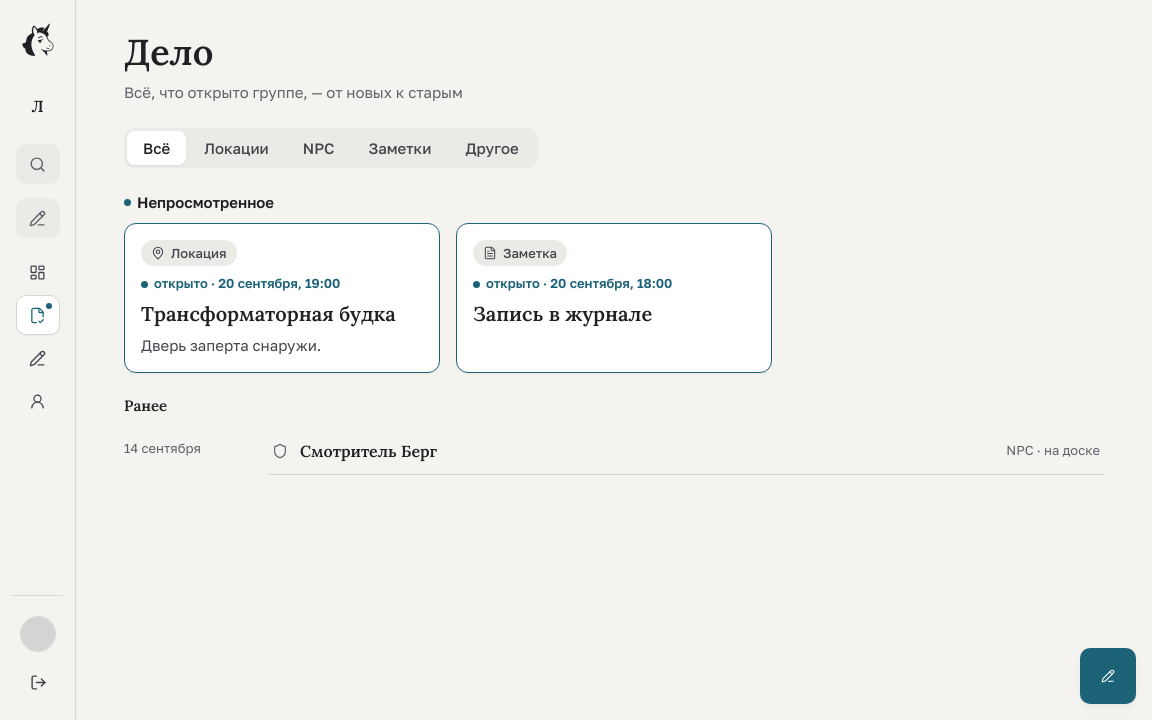
CasePage › shows unseen materials first and the rest by day
Expected: the text "Дверь заперта снаружи." is shown, [141, 336, 321, 354]
What coordinates should you click on to do the following:
click the radio button labelled "NPC"
I would click on:
 (319, 148)
Its box is [303, 139, 334, 157].
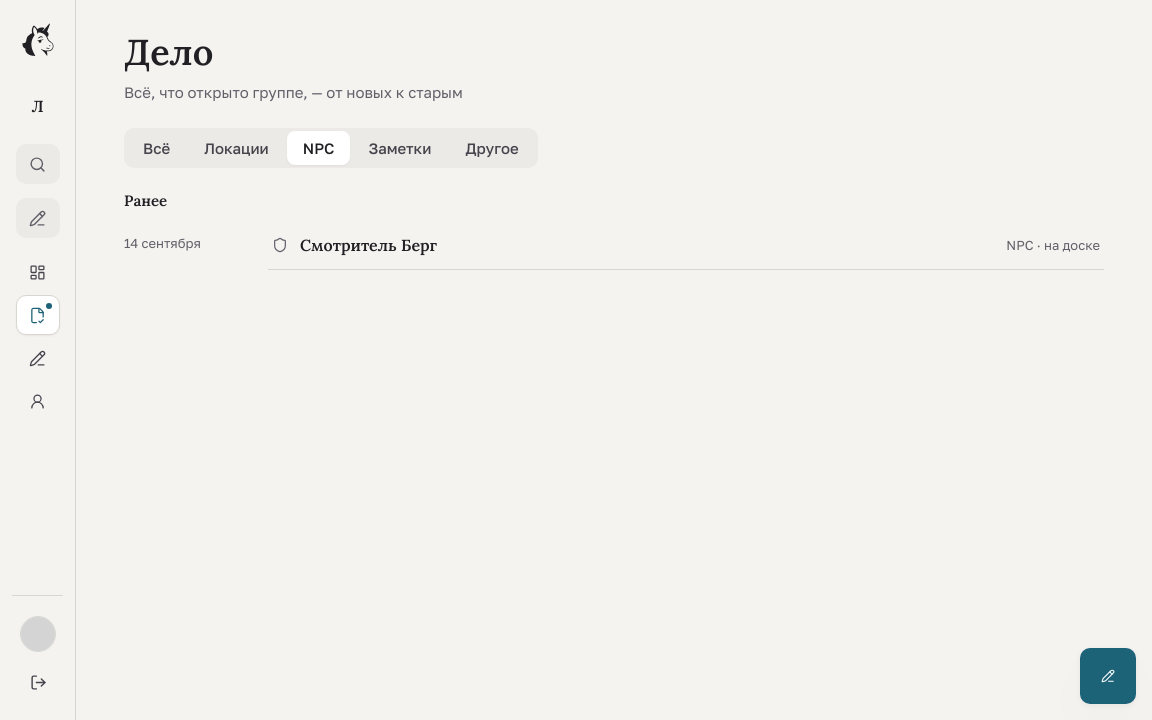
Expected: the element "14 сентября" shows "Смотритель Берг", [268, 222, 1104, 270]
Expected: the text "Непросмотренное" is gone
Expected: the link "Трансформаторная будка" is gone
